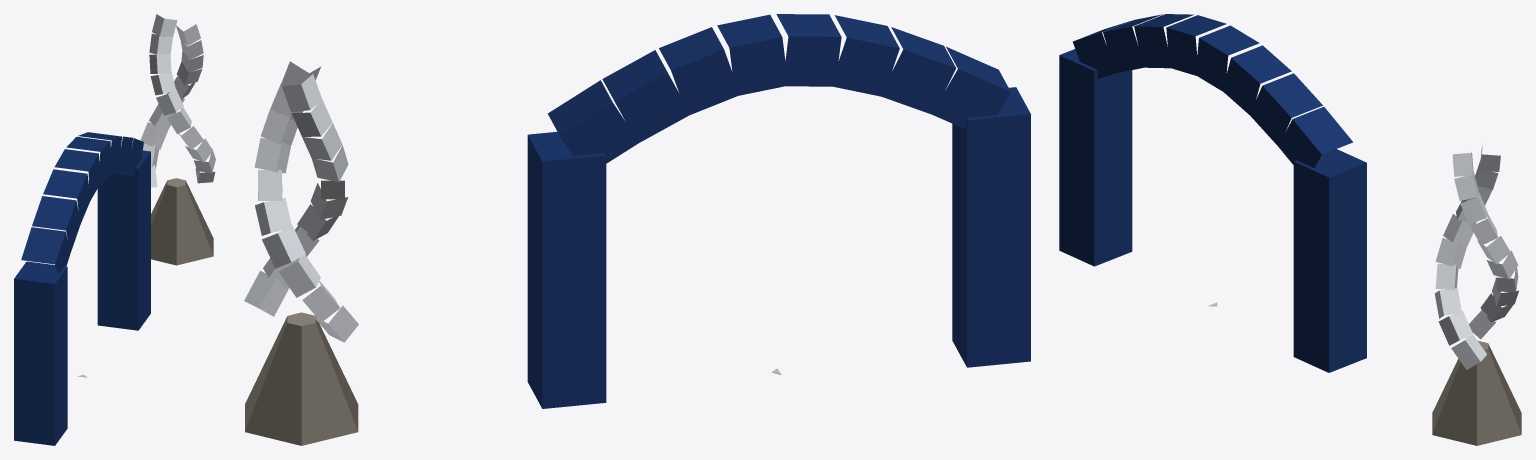
File: voco_arch.glb
3 views of the same model, side by side, from view 1: azimuth 30°, elevation 25°; view 2: azimuth 150°, elevation 25°; view 3: azimuth 270°, elevation 25° (orthographic). The views are drawn at different scales.
Parts seen in each view (by area): view 1: voco_arch_lod0; view 2: voco_arch_lod0; view 3: voco_arch_lod0.
Boxes of the visible parts, x1,y1,x2,y2 form: voco_arch_lod0: [14, 14, 215, 445]; voco_arch_lod0: [244, 14, 1030, 445]; voco_arch_lod0: [1059, 14, 1521, 445].
Size of what is drawn, in the model's own units: 11.54 by 7.09 by 10.73.
